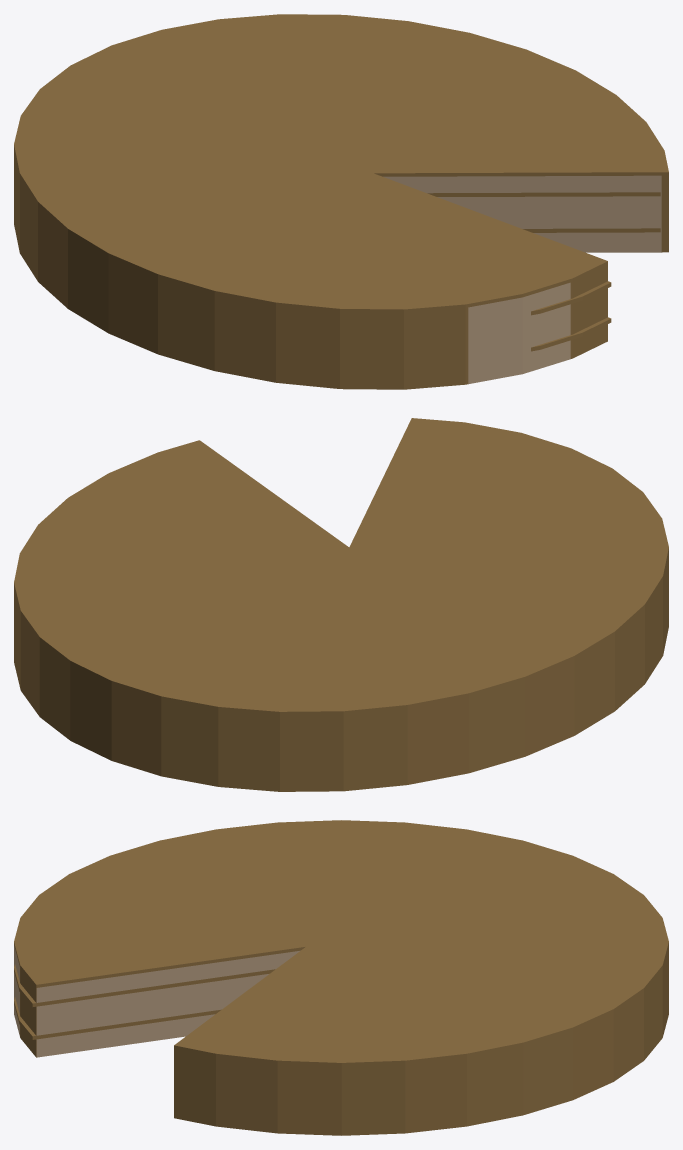
The model's file is cake.glb.
The picture shows the model from 3 angles, top to bottom: view 1: azimuth 30°, elevation 25°; view 2: azimuth 150°, elevation 25°; view 3: azimuth 270°, elevation 25°; orthographic projection. The views are drawn at different scales.
Parts seen in each view (by area): view 1: Mesh_Mesh_head_geo.001_lambert2SG.001; view 2: Mesh_Mesh_head_geo.001_lambert2SG.001; view 3: Mesh_Mesh_head_geo.001_lambert2SG.001.
Part boxes in pixels (box(x1,y1,x2,y2)): Mesh_Mesh_head_geo.001_lambert2SG.001: box(14, 14, 668, 389); Mesh_Mesh_head_geo.001_lambert2SG.001: box(14, 418, 668, 791); Mesh_Mesh_head_geo.001_lambert2SG.001: box(14, 820, 668, 1135).
Bounding box in the file's own units: 143 × 20 × 163.
